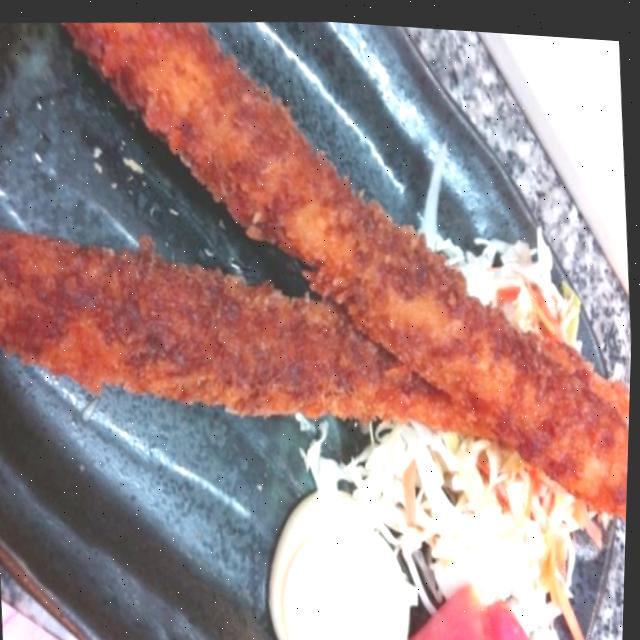面条主食: (28, 24, 545, 609)
